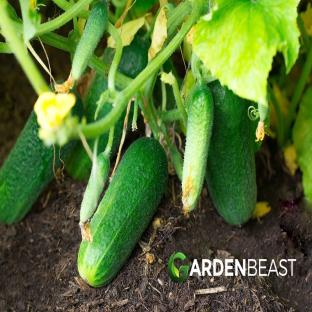Cucumber: (78, 138, 167, 286), (206, 81, 256, 224), (0, 111, 54, 224), (182, 84, 213, 211), (72, 0, 108, 79), (80, 153, 109, 222), (118, 36, 150, 78), (84, 74, 107, 122)
